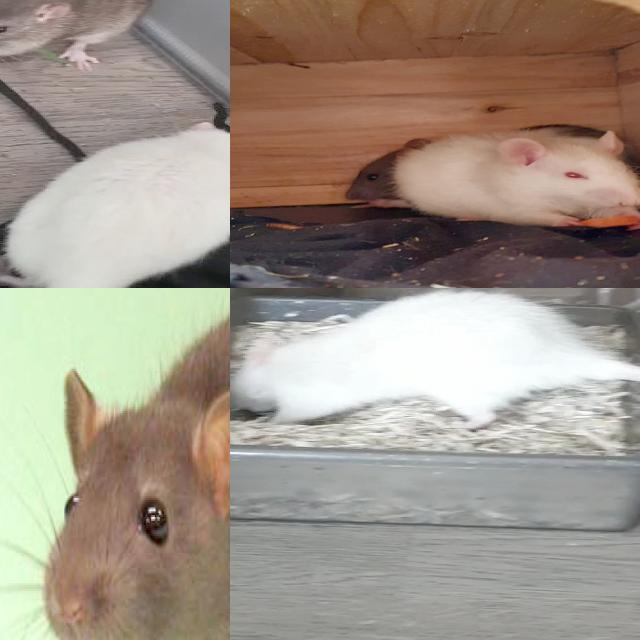rat: (42, 303, 230, 640), (230, 292, 583, 426), (1, 121, 230, 288), (393, 126, 639, 226), (0, 0, 157, 71), (230, 288, 348, 349)
